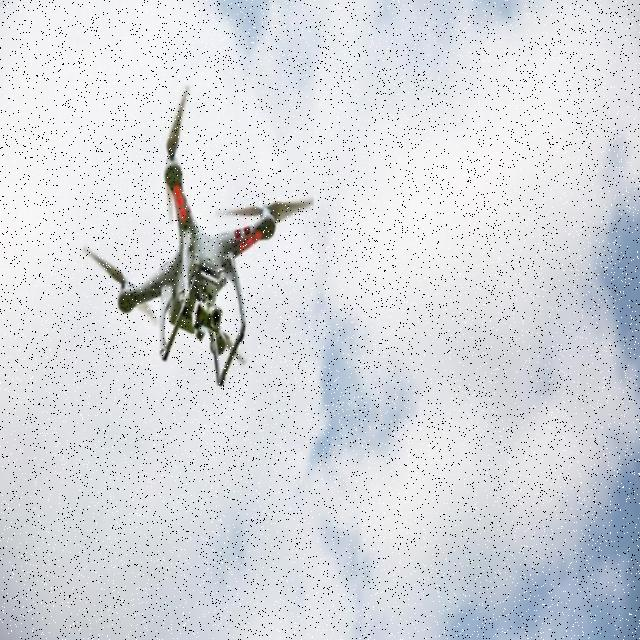UAV: (115, 125, 278, 389)
